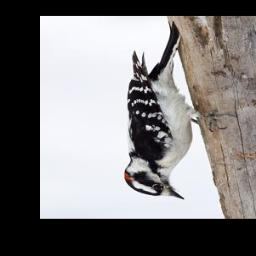Woodpecker: (122, 21, 238, 203)
